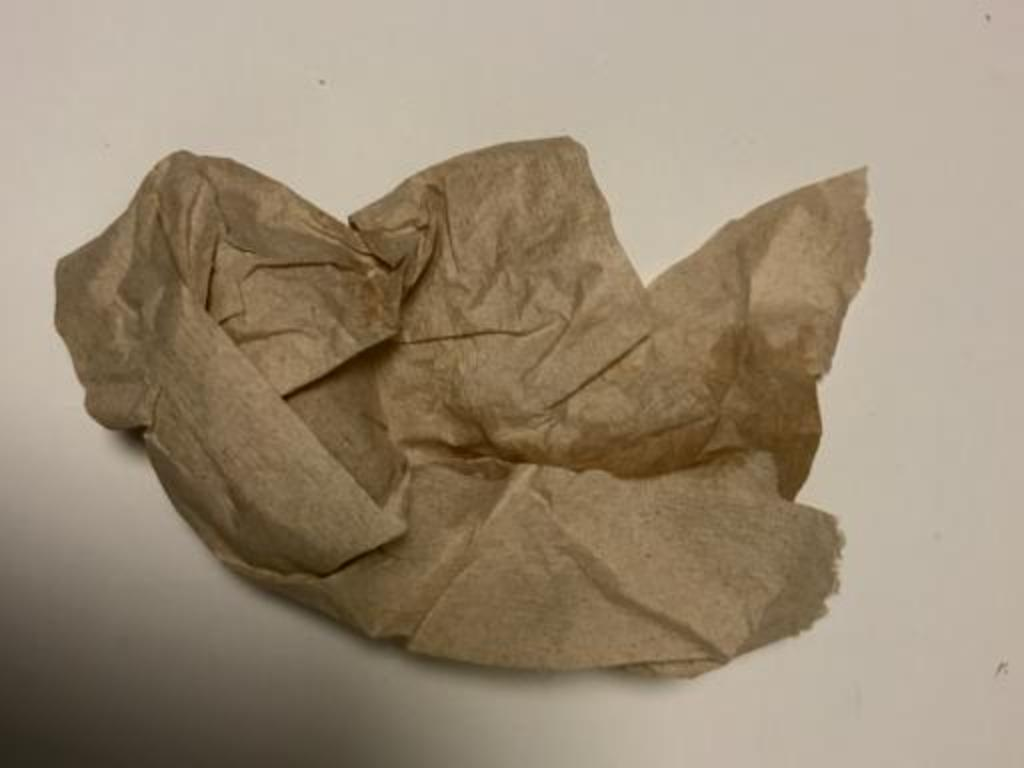garbage: (35, 104, 903, 694)
